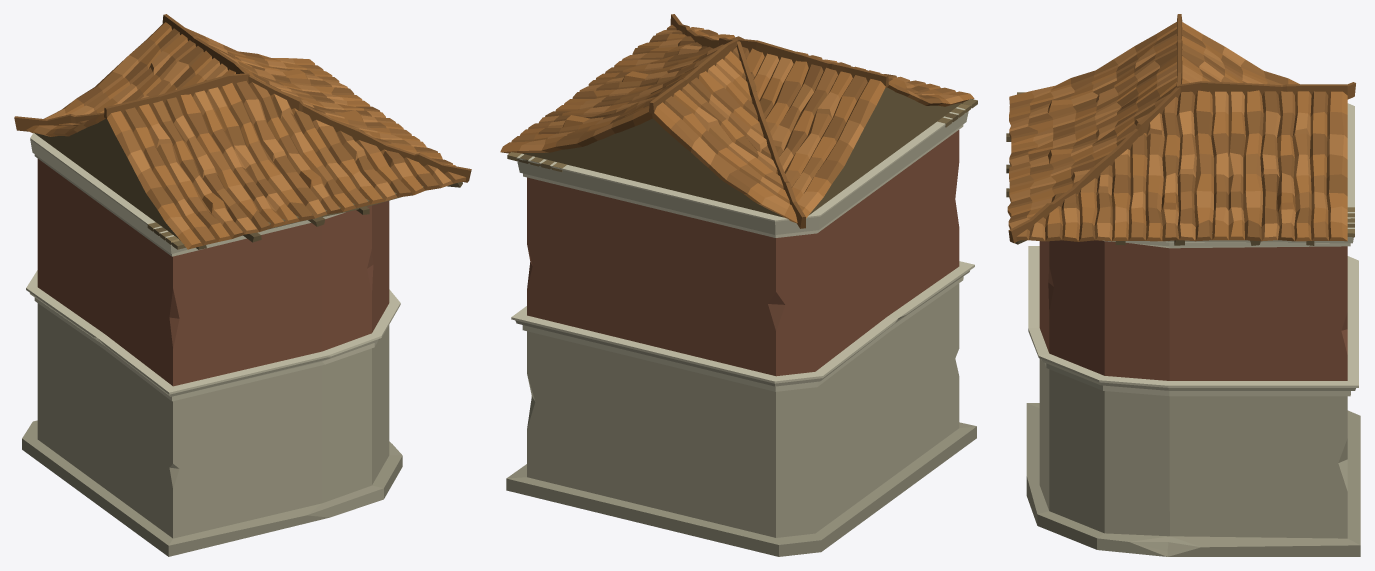
Rendered from BuildingBase_1.fbx.
3 renders of one model, left to right at view 1: azimuth 30°, elevation 25°; view 2: azimuth 150°, elevation 25°; view 3: azimuth 270°, elevation 25°, orthographic. The views are drawn at different scales.
Parts seen in each view (by area): view 1: BuildingBase_1; view 2: BuildingBase_1; view 3: BuildingBase_1.
Boxes of the visible parts, x1,y1,x2,y2 form: BuildingBase_1: [14, 14, 471, 556]; BuildingBase_1: [500, 14, 977, 556]; BuildingBase_1: [1006, 14, 1360, 556].
Bounding box in the file's own units: 693 × 885 × 694.
